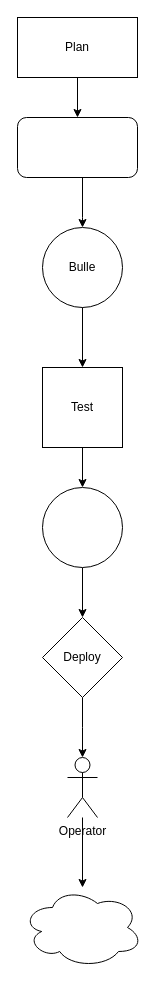
The diagram is 160 pixels wide and 985 high, and some of its shapes have lost their labels. Here are the shapes that lost their labels. From the top down, the box of each, then its label:
(16, 116, 138, 178): Devlop
(42, 486, 122, 568): Release
(22, 886, 142, 968): Monitor
